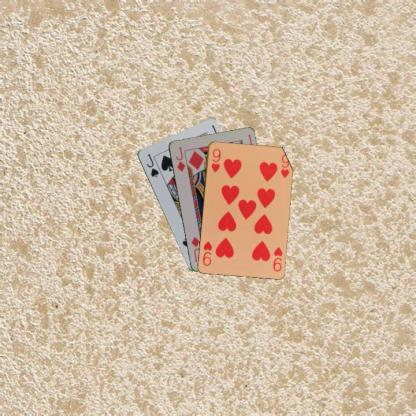9h: (270, 244, 284, 273), (208, 146, 222, 174)
Jd: (173, 144, 186, 173)
Js: (144, 151, 160, 178)
